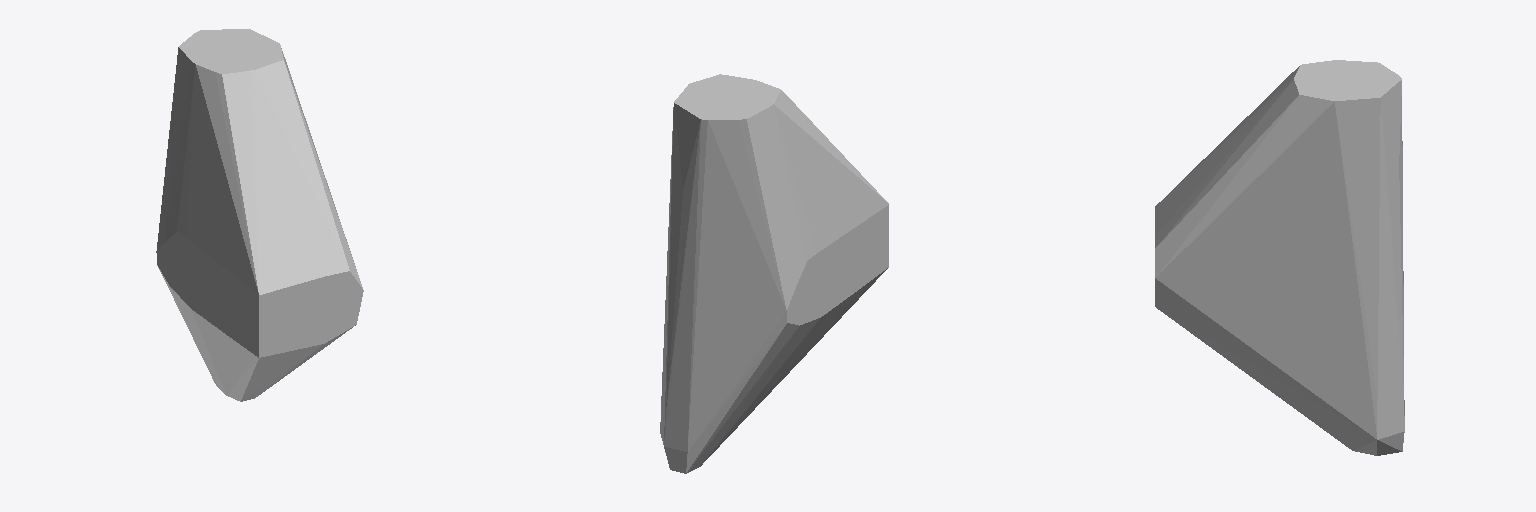
The model's file is sofa_collision_24.obj.
The picture shows the model from 3 angles: view 1: azimuth 30°, elevation 25°; view 2: azimuth 150°, elevation 25°; view 3: azimuth 270°, elevation 25°; orthographic projection.
Size of the model in its own units: 29.86 by 86.69 by 54.49.